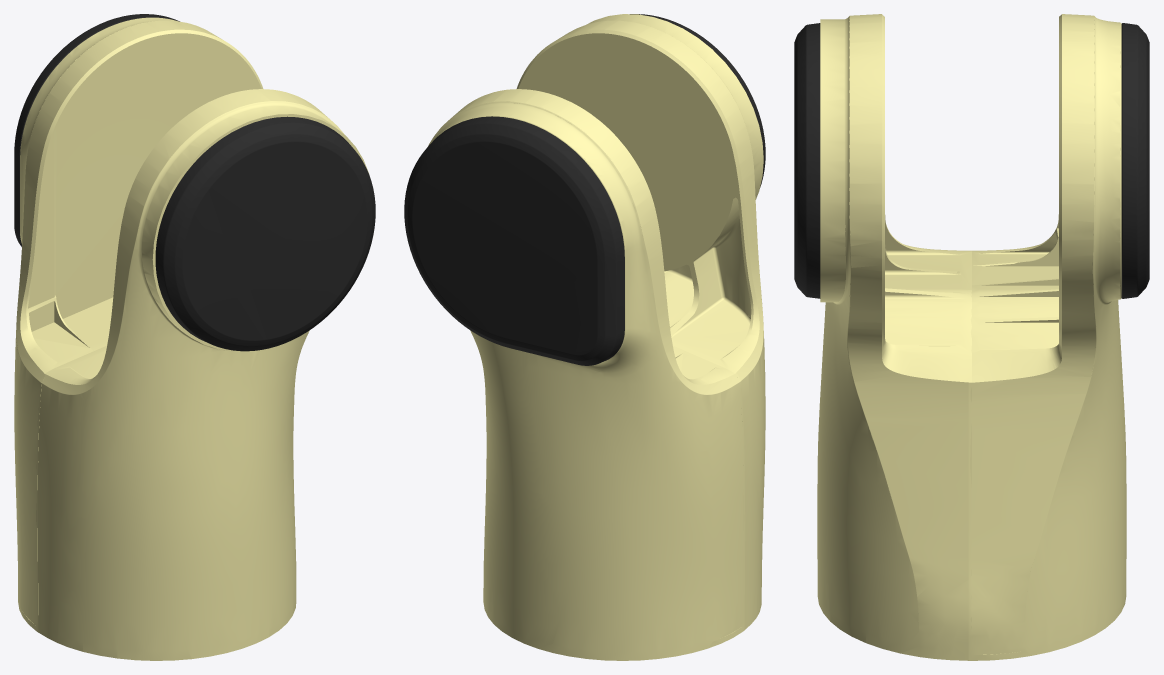
Rendered from elbow_pitch_l_j3_link.glb.
3 renders of one model, left to right at view 1: azimuth 30°, elevation 25°; view 2: azimuth 150°, elevation 25°; view 3: azimuth 270°, elevation 25°, orthographic. The views are drawn at different scales.
Visible parts, largest first — view 1: Mesh_0.025; view 2: Mesh_0.025; view 3: Mesh_0.025.
Part boxes in pixels (x1=…): Mesh_0.025: x1=14, y1=14, x2=375, y2=660; Mesh_0.025: x1=404, y1=14, x2=765, y2=660; Mesh_0.025: x1=794, y1=14, x2=1149, y2=660.
Size of the model in its own units: 0.1089 by 0.2092 by 0.1104.
10 materials, 9 textured.
